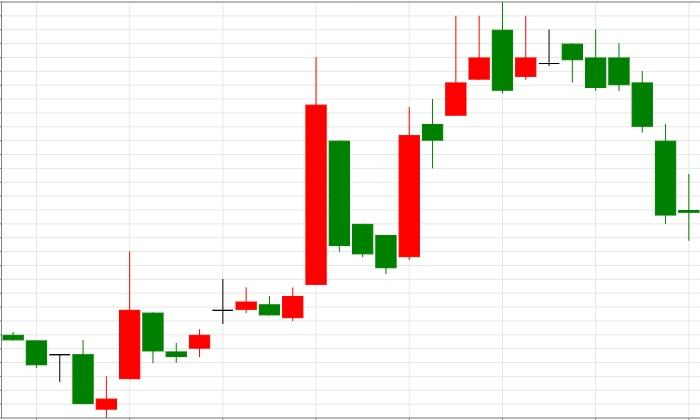bearish_engulfing_fall: (375, 2, 514, 274)
three_black_crows_fall: (375, 2, 677, 274)
